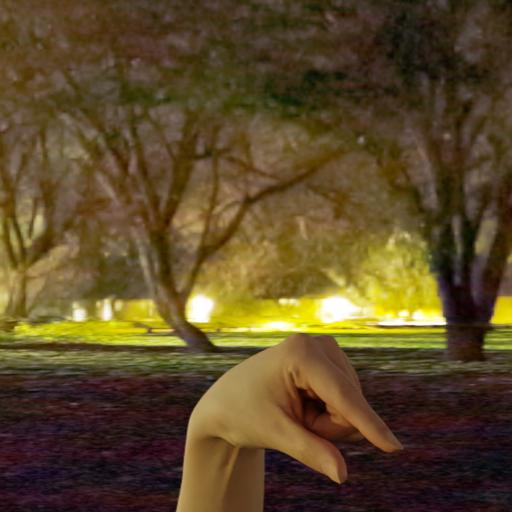Q: (182, 329, 406, 494)
